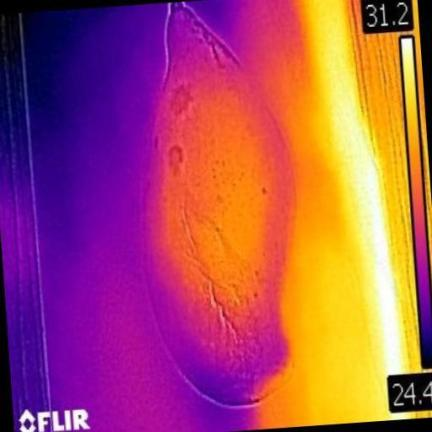mango: (143, 2, 296, 403)
